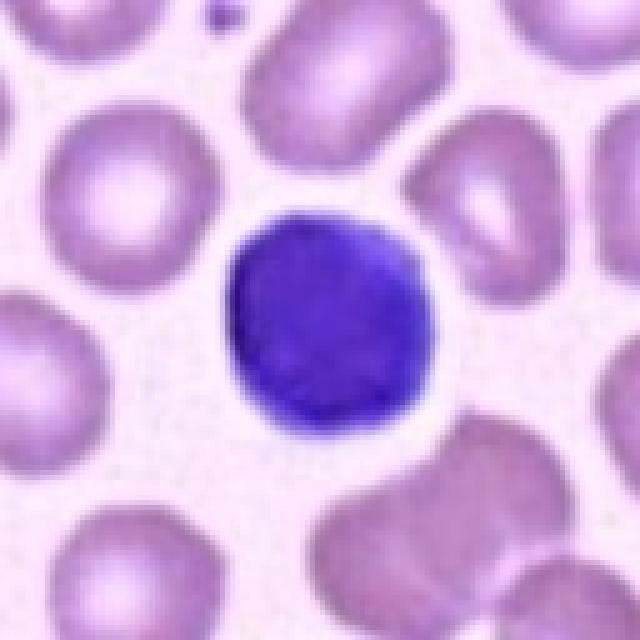lympho: (217, 193, 453, 449)
